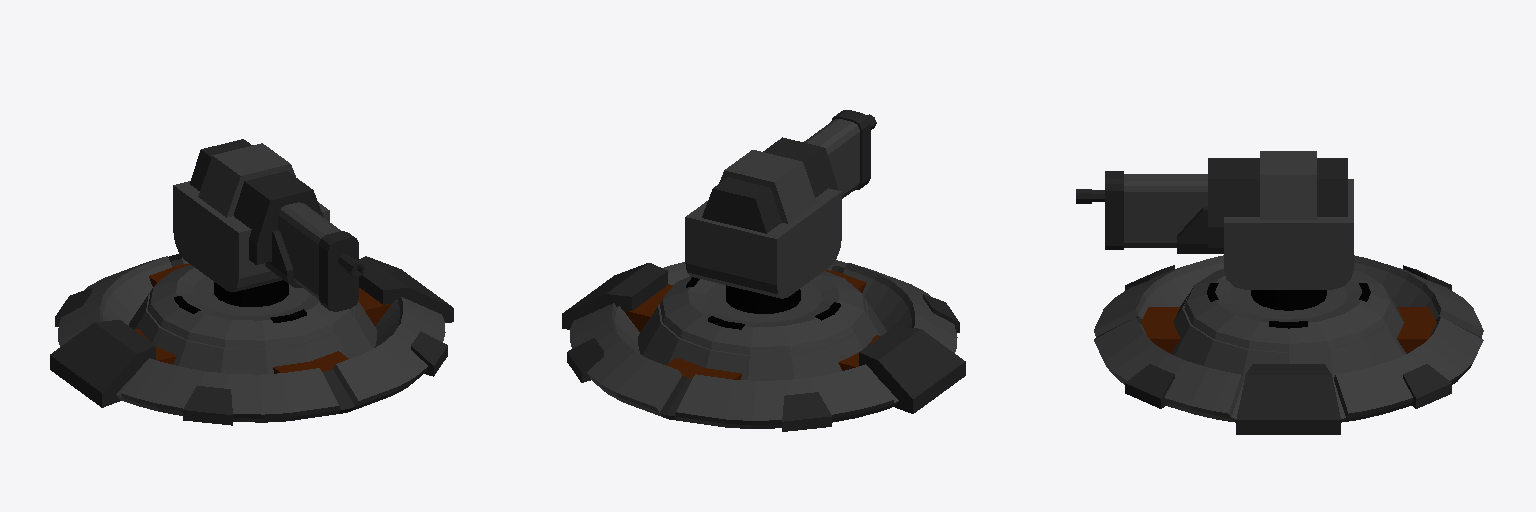
Rendered from turret.obj.
The picture shows the model from 3 angles: view 1: azimuth 30°, elevation 25°; view 2: azimuth 150°, elevation 25°; view 3: azimuth 270°, elevation 25°; orthographic projection.
Visible parts, largest first — view 1: Turret_Gun_Base; view 2: Turret_Gun_Base; view 3: Turret_Gun_Base.
Part boxes in pixels (x1,y1,x2,y2): Turret_Gun_Base: (50,139,453,425); Turret_Gun_Base: (562,110,965,431); Turret_Gun_Base: (1076,151,1483,434).
Bounding box in the file's own units: 69.7 × 35.32 × 70.06.